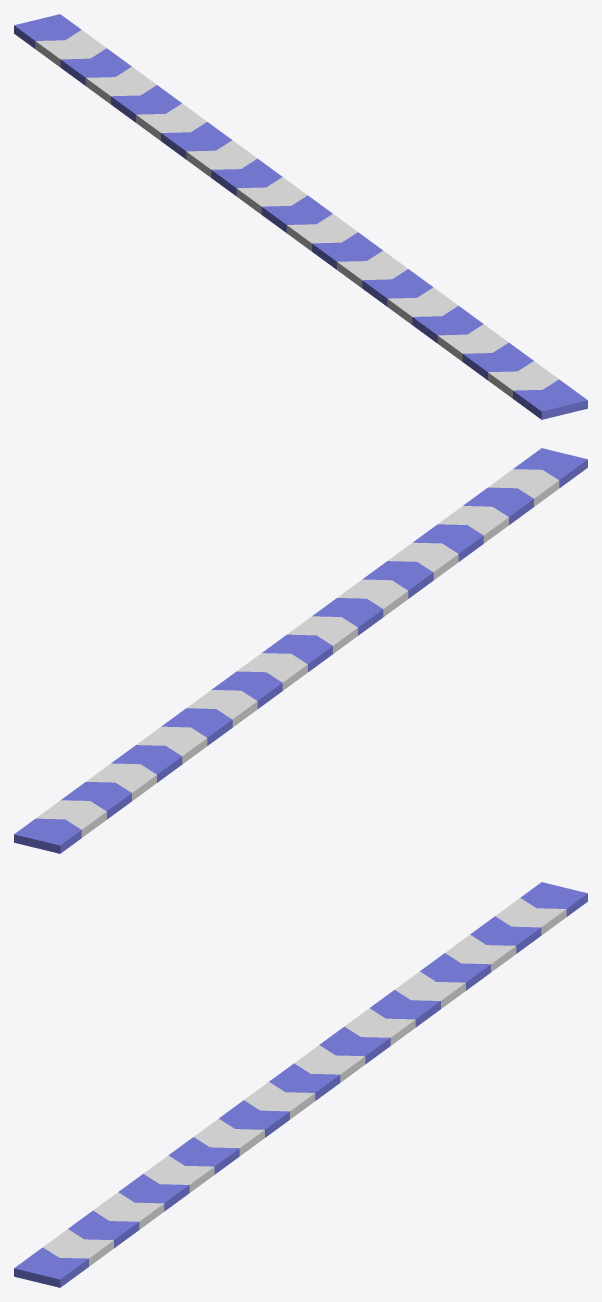
Rendered from Road.fbx.
3 renders of one model, top to bottom at view 1: azimuth 30°, elevation 25°; view 2: azimuth 150°, elevation 25°; view 3: azimuth 330°, elevation 25°, orthographic.
Visible parts, largest first — view 1: Cube; view 2: Cube; view 3: Cube.
Boxes of the visible parts, x1,y1,x2,y2 form: Cube: [14, 14, 587, 419]; Cube: [14, 448, 587, 853]; Cube: [14, 882, 587, 1287].
Bounding box in the file's own units: 408 × 70.07 × 8074.
